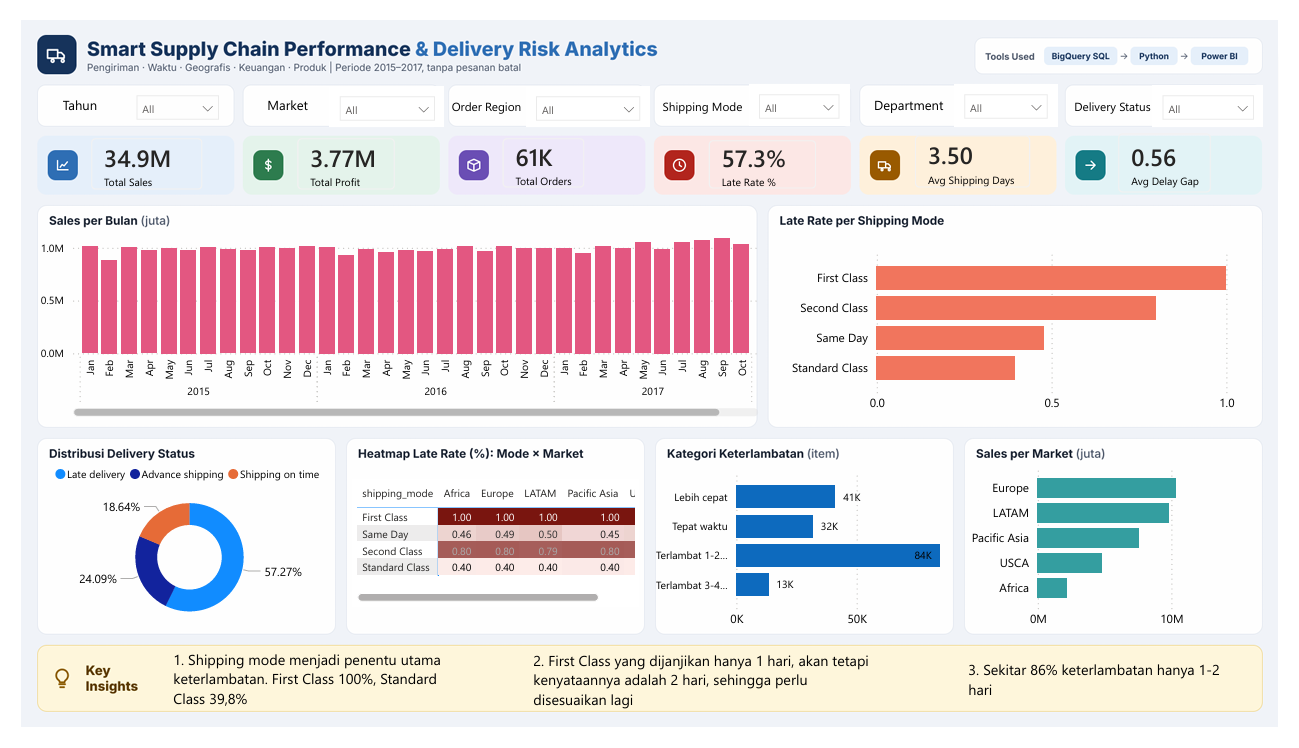

What the dashboard file says about the page in this screenshot:
{"tool":"powerbi","page":{"name":"Page 1","canvas":[1280,720],"ordinal":0},"visuals":[{"type":"image","box":[0,0,1280,720],"z":0},{"type":"cardVisual","fields":{"Data":["supply_chain_clean.Avg Delay Gap"]},"box":[1100,97.8,128.9,94.4],"z":1000},{"type":"cardVisual","fields":{"Data":["supply_chain_clean.Avg Shipping Days"]},"box":[892.5,100,151.7,87.5],"z":2000},{"type":"cardVisual","fields":{"Data":["supply_chain_clean.Late Rate %","select"]},"box":[683.3,105,143.3,83.3],"z":3000},{"type":"cardVisual","fields":{"Data":["supply_chain_clean.Total Orders"]},"box":[473.3,103.3,117.5,84.2],"z":4000},{"type":"cardVisual","fields":{"Data":["supply_chain_clean.Total Profit"]},"box":[263.8,102.5,133.8,86.2],"z":5000},{"type":"cardVisual","fields":{"Data":["supply_chain_clean.Total Sales"]},"box":[53.8,102.5,147.5,86.2],"z":6000},{"type":"slicer","fields":{"Values":["Calendar.Year"]},"box":[106.7,65.8,104.2,41.7],"z":7000},{"type":"slicer","fields":{"Values":["supply_chain_clean.market"]},"box":[314.2,66.7,116.7,40.8],"z":8000},{"type":"slicer","fields":{"Values":["supply_chain_clean.order_region"]},"box":[514.2,66.7,125.8,40.8],"z":9000},{"type":"slicer","fields":{"Values":["supply_chain_clean.shipping_mode"]},"box":[740.9,65.5,101.8,41.8],"z":10000},{"type":"slicer","fields":{"Values":["supply_chain_clean.department_name"]},"box":[950,65.5,105.5,42.7],"z":11000},{"type":"slicer","fields":{"Values":["supply_chain_clean.delivery_status"]},"box":[1151.8,66.4,112.7,41.8],"z":12000},{"type":"clusteredColumnChart","fields":{"Y":["Sum(supply_chain_clean.sales)"],"Category":["Calendar.Year","Calendar.Month Name"]},"box":[13.8,207.5,741.2,200],"z":13000},{"type":"clusteredBarChart","fields":{"Category":["supply_chain_clean.shipping_mode"],"Y":["supply_chain_clean.Late Rate %"]},"box":[772.5,225,467.5,182.5],"z":14000},{"type":"donutChart","fields":{"Category":["supply_chain_clean.delivery_status"],"Y":["CountNonNull(supply_chain_clean.delivery_status)"]},"box":[27.5,442.5,286.2,180],"z":15000},{"type":"clusteredBarChart","fields":{"Category":["supply_chain_clean.market"],"Y":["Sum(supply_chain_clean.sales)"]},"box":[956.2,442.5,300,185],"z":16000},{"type":"clusteredBarChart","fields":{"Category":["supply_chain_clean.delay_category"],"Y":["CountNonNull(supply_chain_clean.category_name)"]},"box":[628,449,322,179],"z":17000},{"type":"pivotTable","fields":{"Rows":["supply_chain_clean.shipping_mode"],"Columns":["supply_chain_clean.market"],"Values":["supply_chain_clean.Late Rate %"]},"box":[337.1,467.1,291.4,130],"z":18000},{"type":"shape","box":[5.8,68.3,106.7,35],"z":19000},{"type":"shape","box":[217.5,68.3,106.7,35],"z":20000},{"type":"shape","box":[420,70,106.7,35],"z":21000},{"type":"shape","box":[640,70,106.7,35],"z":22000},{"type":"shape","box":[850,68.3,106.7,35],"z":23000},{"type":"shape","box":[1057.5,70,106.7,35],"z":24000},{"type":"shape","box":[140,621.4,320,98.6],"z":25000},{"type":"shape","box":[507.1,622.9,385.7,97.1],"z":26000},{"type":"shape","box":[950,622.9,295.7,97.1],"z":27000}]}

Visuals, with their boxes in screenshot pixels (x1, y1, x2, y2), scaled from the page's 1280x720 canvas onto the 1299x748 screenshot:
image: [0,0,1298,747]
cardVisual - supply_chain_clean.Avg Delay Gap: [1116,102,1247,200]
cardVisual - supply_chain_clean.Avg Shipping Days: [906,104,1060,195]
cardVisual - supply_chain_clean.Late Rate % x select: [693,109,839,196]
cardVisual - supply_chain_clean.Total Orders: [480,107,600,195]
cardVisual - supply_chain_clean.Total Profit: [268,106,404,196]
cardVisual - supply_chain_clean.Total Sales: [55,106,204,196]
slicer - Calendar.Year: [108,68,214,112]
slicer - supply_chain_clean.market: [319,69,437,112]
slicer - supply_chain_clean.order_region: [522,69,650,112]
slicer - supply_chain_clean.shipping_mode: [752,68,855,111]
slicer - supply_chain_clean.department_name: [964,68,1071,112]
slicer - supply_chain_clean.delivery_status: [1169,69,1283,112]
clusteredColumnChart - Sum(supply_chain_clean.sales) x Calendar.Year: [14,216,766,423]
clusteredBarChart - supply_chain_clean.shipping_mode x supply_chain_clean.Late Rate %: [784,234,1258,423]
donutChart - supply_chain_clean.delivery_status x CountNonNull(supply_chain_clean.delivery_status): [28,460,318,647]
clusteredBarChart - supply_chain_clean.market x Sum(supply_chain_clean.sales): [970,460,1275,652]
clusteredBarChart - supply_chain_clean.delay_category x CountNonNull(supply_chain_clean.category_name): [637,466,964,652]
pivotTable - supply_chain_clean.shipping_mode x supply_chain_clean.market: [342,485,638,620]
shape: [6,71,114,107]
shape: [221,71,329,107]
shape: [426,73,535,109]
shape: [650,73,758,109]
shape: [863,71,971,107]
shape: [1073,73,1181,109]
shape: [142,646,467,747]
shape: [515,647,906,747]
shape: [964,647,1264,747]
